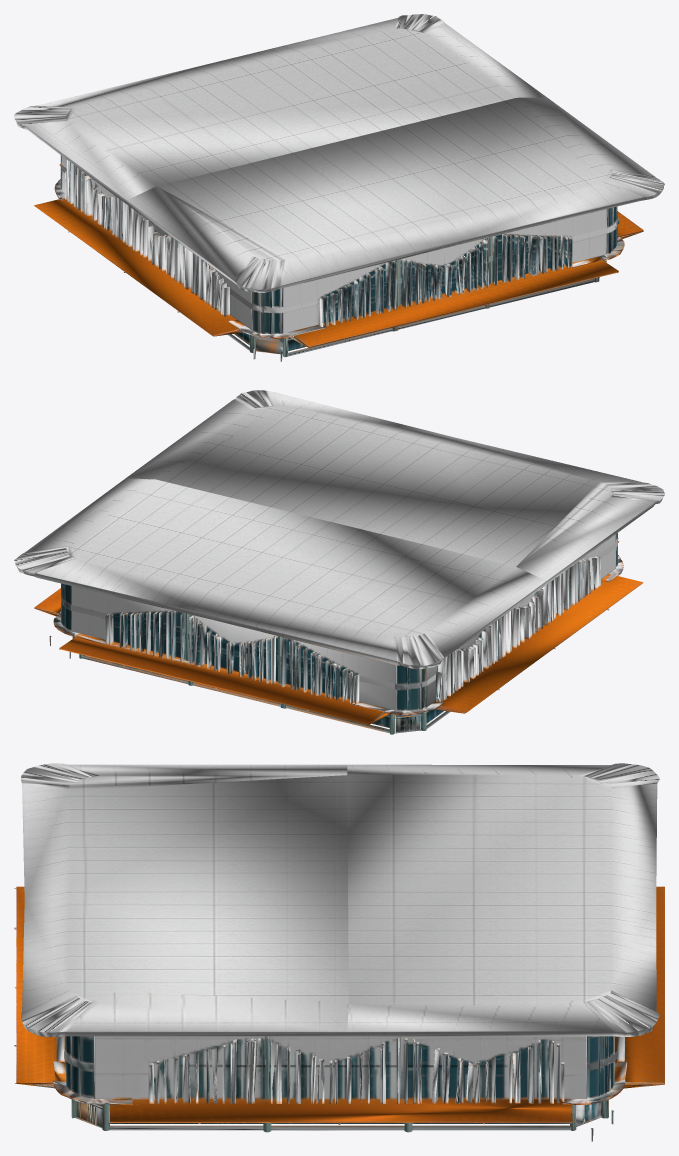
The model's file is Terminal.fbx.
3 views of the same model, one above another, from view 1: azimuth 30°, elevation 25°; view 2: azimuth 150°, elevation 25°; view 3: azimuth 270°, elevation 25° (orthographic). The views are drawn at different scales.
Parts seen in each view (by area): view 1: Mesh_0; view 2: Mesh_0; view 3: Mesh_0.
Boxes of the visible parts, box(x1,y1,x2,y2) form: Mesh_0: box(14, 14, 664, 361); Mesh_0: box(14, 390, 664, 734); Mesh_0: box(14, 763, 664, 1141).
Bounding box in the file's own units: 94.78 × 21.11 × 94.92.
1 material, 1 textured.
